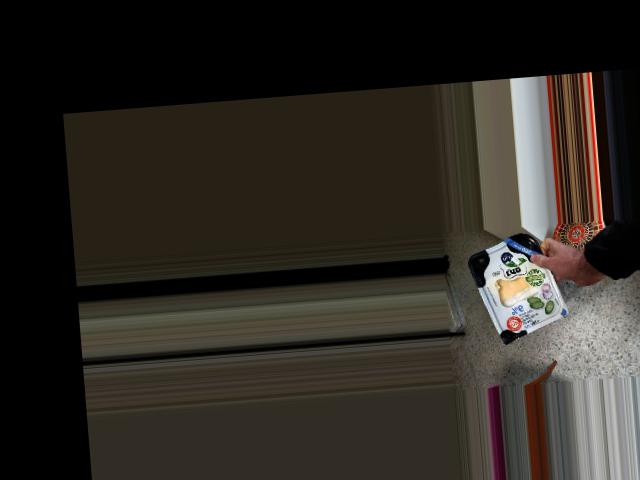cheese: (479, 242, 558, 335)
